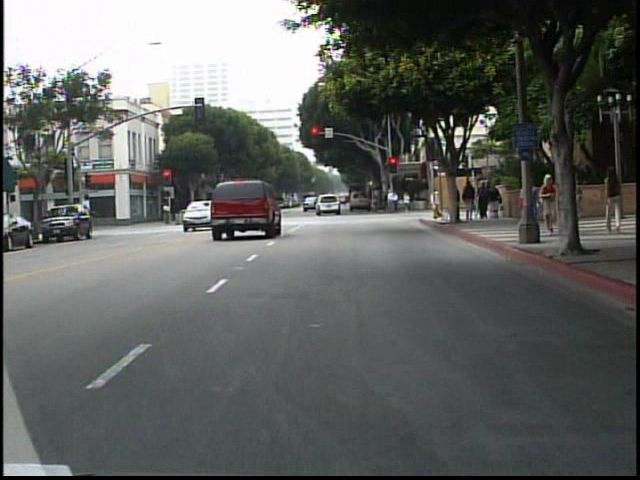person: (601, 163, 625, 233), (536, 172, 558, 237), (576, 172, 592, 237), (462, 177, 478, 223), (430, 187, 445, 220), (162, 201, 175, 229)
